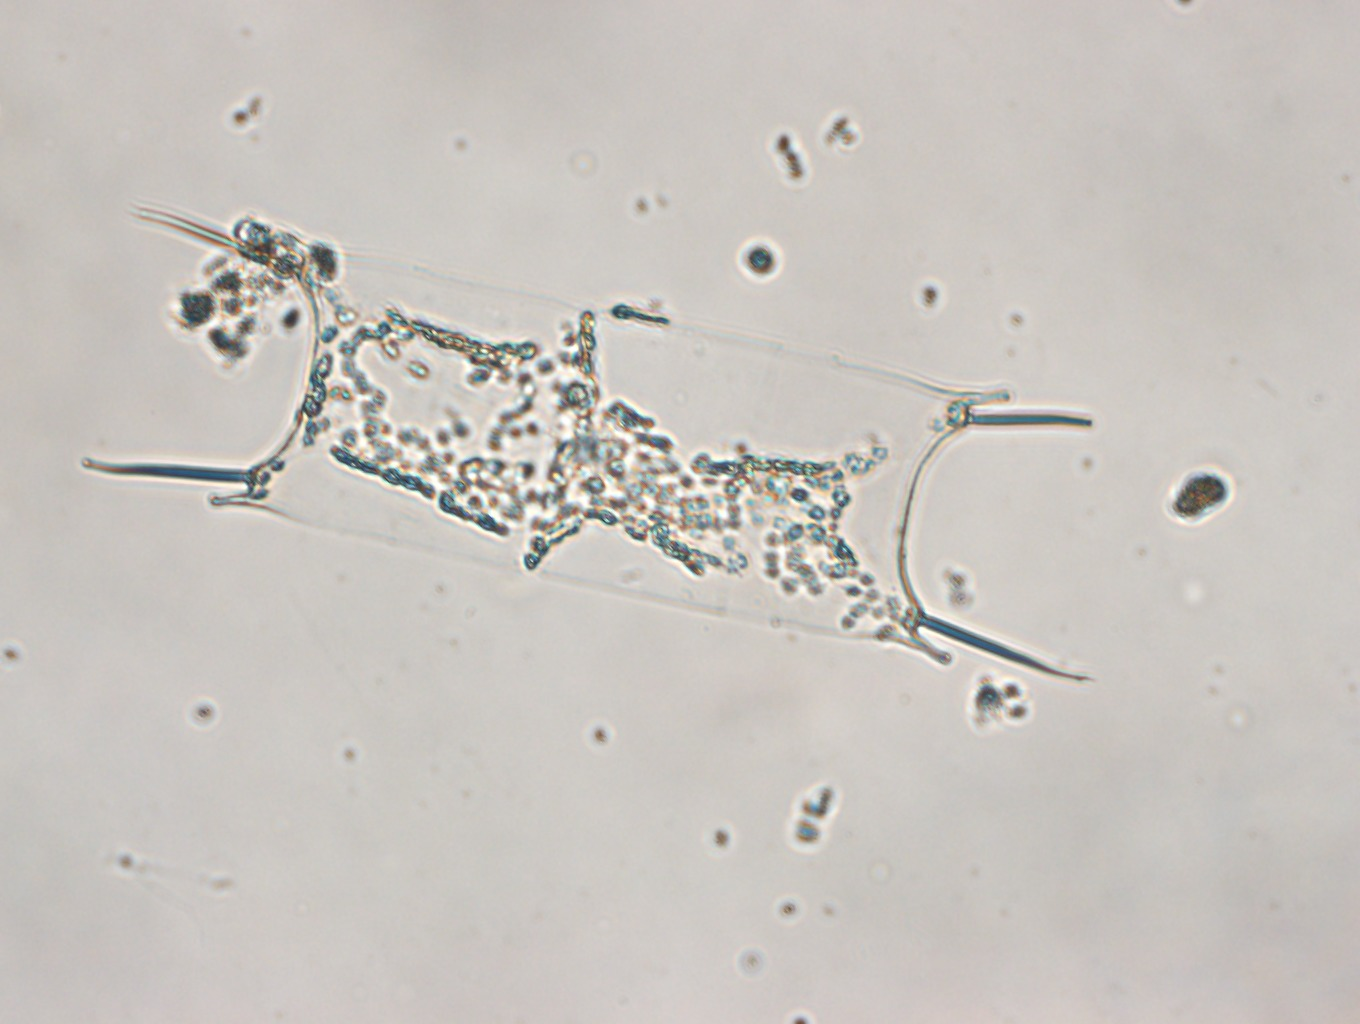biddulphia: (71, 209, 1089, 684)
